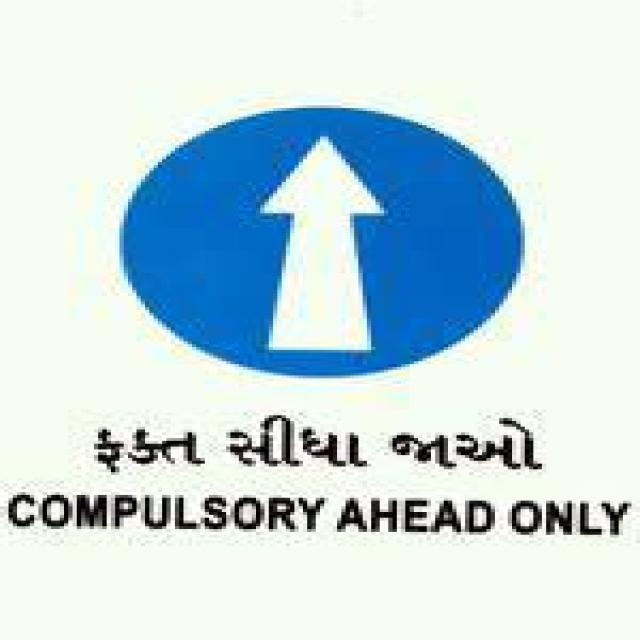compulsary ahead: (112, 96, 534, 380)
